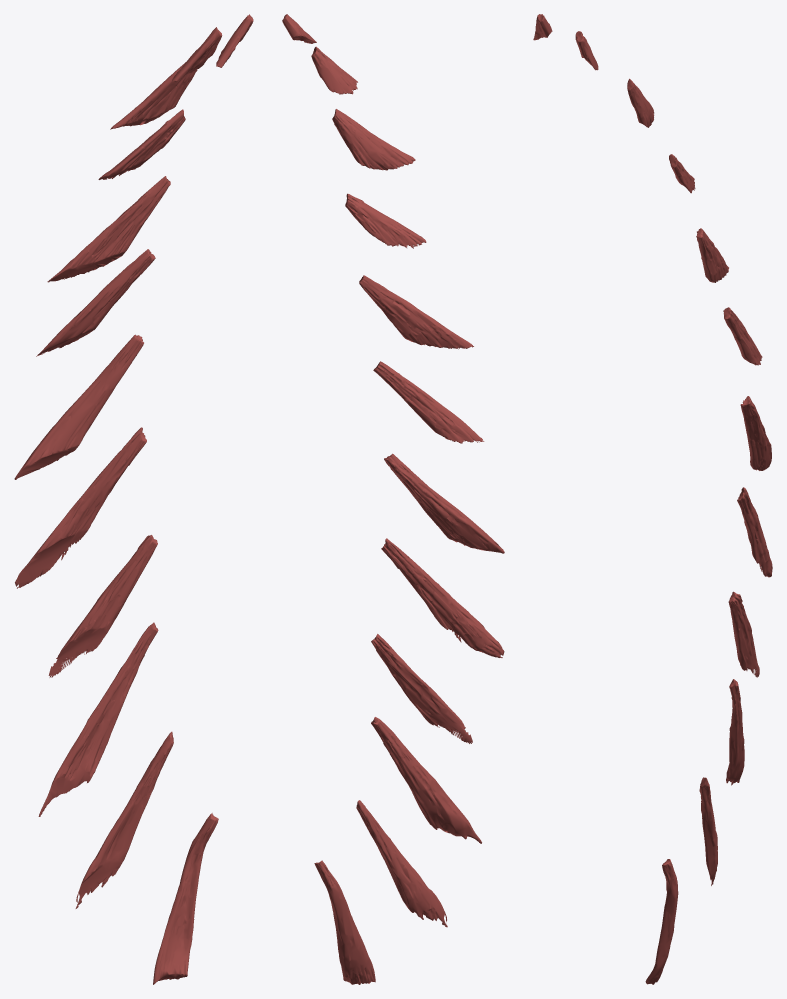
The model's file is FMA74077.glb.
The picture shows the model from 3 angles, left to right: view 1: azimuth 30°, elevation 25°; view 2: azimuth 210°, elevation 25°; view 3: azimuth 270°, elevation 25°; orthographic projection. The views are drawn at different scales.
Visible parts, largest first — view 1: FMA74077; view 2: FMA74077; view 3: FMA74077.
Boxes of the visible parts, x1,y1,x2,y2 form: FMA74077: (14,14,253,984); FMA74077: (282,14,504,984); FMA74077: (533,14,772,984).
Size of the model in its own units: 0.0491 by 0.3132 by 0.0694.
